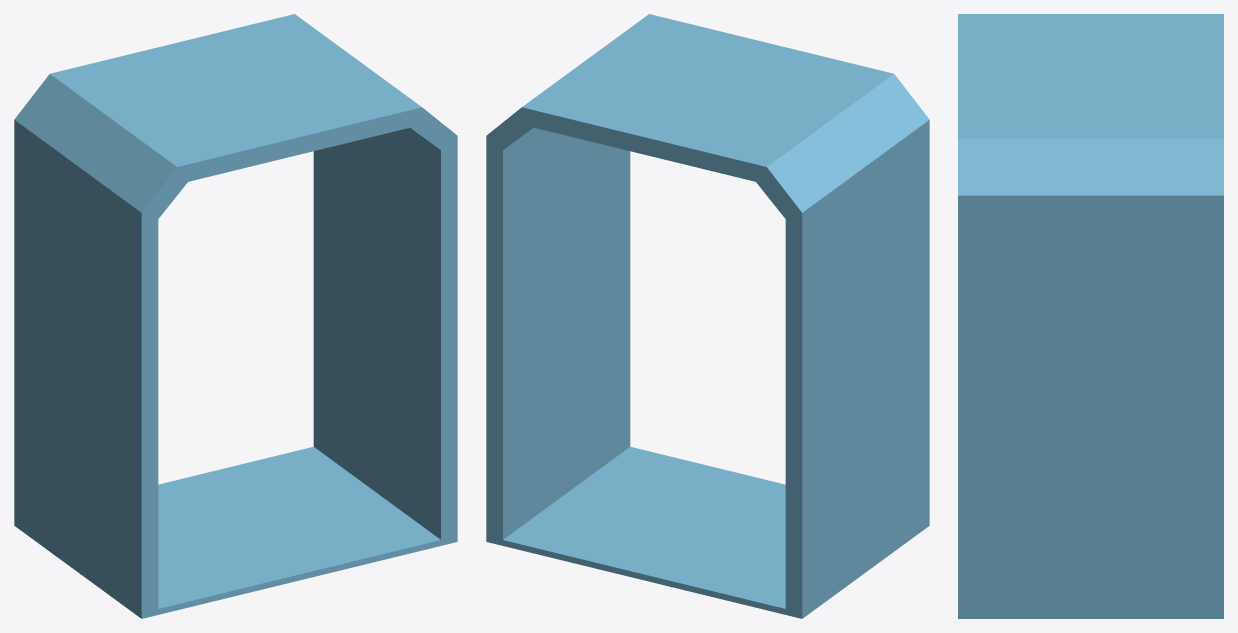
The model's file is door_frame_big_small_a.fbx.
3 renders of one model, left to right at view 1: azimuth 30°, elevation 25°; view 2: azimuth 150°, elevation 25°; view 3: azimuth 270°, elevation 25°, orthographic. The views are drawn at different scales.
Visible parts, largest first — view 1: door_frame_big_small_a; view 2: door_frame_big_small_a; view 3: door_frame_big_small_a.
Boxes of the visible parts, x1,y1,x2,y2 form: door_frame_big_small_a: [14, 14, 457, 618]; door_frame_big_small_a: [486, 14, 929, 618]; door_frame_big_small_a: [958, 14, 1223, 618].
Bounding box in the file's own units: 1.4 × 1.87 × 0.976.
